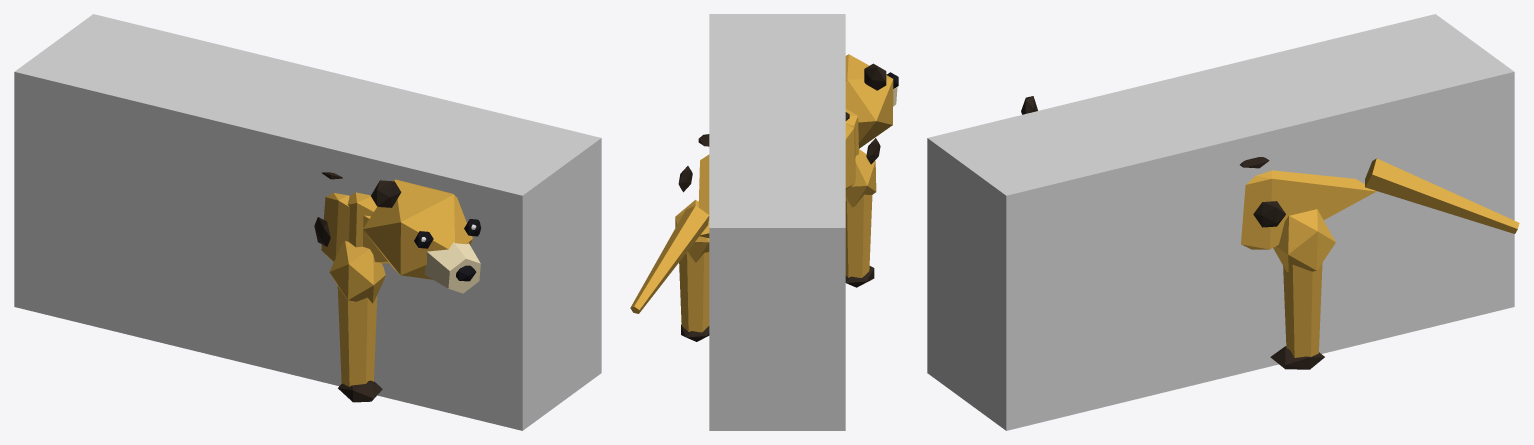
File: jungle_jaguar.fbx
3 renders of one model, left to right at view 1: azimuth 30°, elevation 25°; view 2: azimuth 150°, elevation 25°; view 3: azimuth 270°, elevation 25°, orthographic. The views are drawn at different scales.
Visible parts, largest first — view 1: Root__0.00_2.50_0.75__3.04_5.00_11.30, Head__Body__0.00_3.74_-1.84, LegFR__Body__0.83_2.56_-2.04, Body__Root__0.00_3.38_0.00; view 2: Root__0.00_2.50_0.75__3.04_5.00_11.30, Head__Body__0.00_3.74_-1.84, LegFR__Body__0.83_2.56_-2.04, LegBL__Body__-0.83_2.56_2.23, Tail__Body__0.00_3.78_3.53, Body__Root__0.00_3.38_0.00; view 3: Root__0.00_2.50_0.75__3.04_5.00_11.30, LegBL__Body__-0.83_2.56_2.23, Body__Root__0.00_3.38_0.00, Tail__Body__0.00_3.78_3.53.
Part boxes in pixels (box(x1,y1,x2,y2)): Root__0.00_2.50_0.75__3.04_5.00_11.30: box(14, 14, 601, 430); Head__Body__0.00_3.74_-1.84: box(363, 179, 480, 293); LegFR__Body__0.83_2.56_-2.04: box(329, 241, 385, 402); Body__Root__0.00_3.38_0.00: box(314, 172, 388, 263); Root__0.00_2.50_0.75__3.04_5.00_11.30: box(709, 14, 845, 430); Head__Body__0.00_3.74_-1.84: box(845, 54, 898, 148); LegFR__Body__0.83_2.56_-2.04: box(845, 149, 876, 287); LegBL__Body__-0.83_2.56_2.23: box(675, 200, 709, 341); Tail__Body__0.00_3.78_3.53: box(630, 205, 709, 313); Body__Root__0.00_3.38_0.00: box(678, 109, 880, 237); Root__0.00_2.50_0.75__3.04_5.00_11.30: box(927, 14, 1514, 430); LegBL__Body__-0.83_2.56_2.23: box(1270, 209, 1335, 369); Body__Root__0.00_3.38_0.00: box(1240, 157, 1376, 249); Tail__Body__0.00_3.78_3.53: box(1365, 158, 1519, 233).
Bounding box in the file's own units: 232 × 140 × 319.
Materials: 1 (1 with a texture image).
